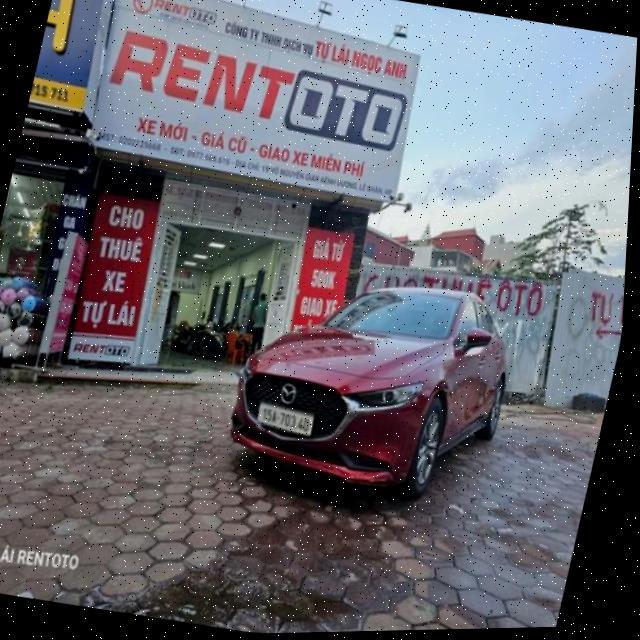car: (208, 256, 532, 521)
plate: (249, 394, 321, 443)
